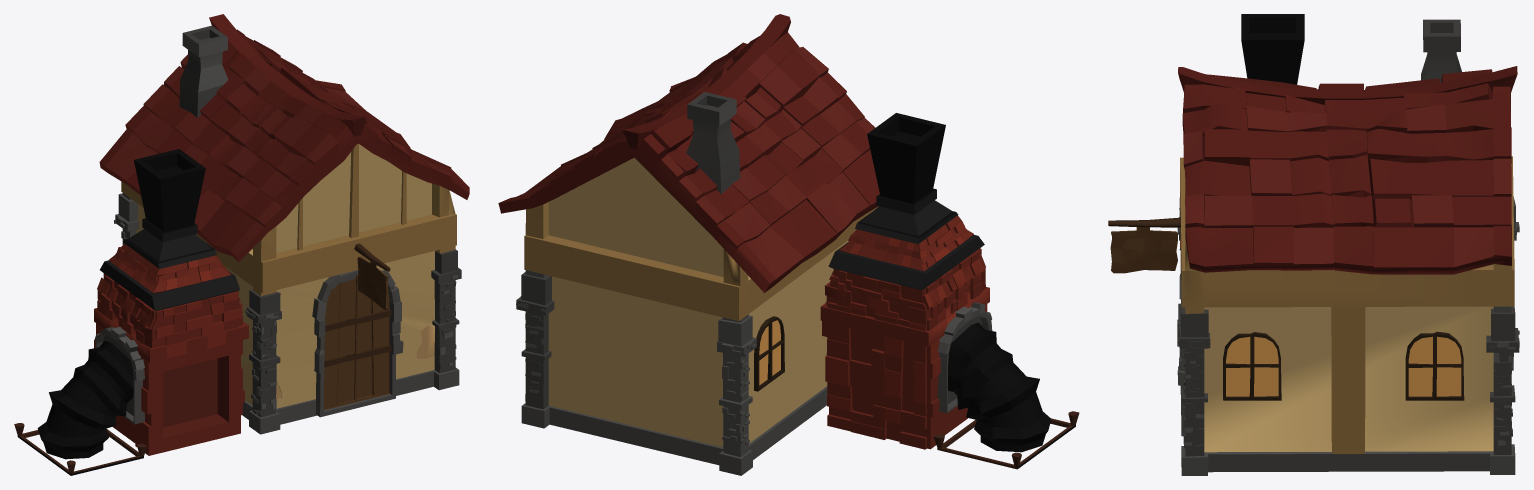
File: Weapon_Shop.FBX
3 renders of one model, left to right at view 1: azimuth 30°, elevation 25°; view 2: azimuth 150°, elevation 25°; view 3: azimuth 270°, elevation 25°, orthographic. The views are drawn at different scales.
Parts seen in each view (by area): view 1: Box045; view 2: Box045; view 3: Box045.
Part boxes in pixels (x1=…): Box045: x1=14, y1=14, x2=469, y2=475; Box045: x1=498, y1=14, x2=1079, y2=475; Box045: x1=1108, y1=14, x2=1519, y2=475.
Bounding box in the file's own units: 1131 × 841 × 840.
